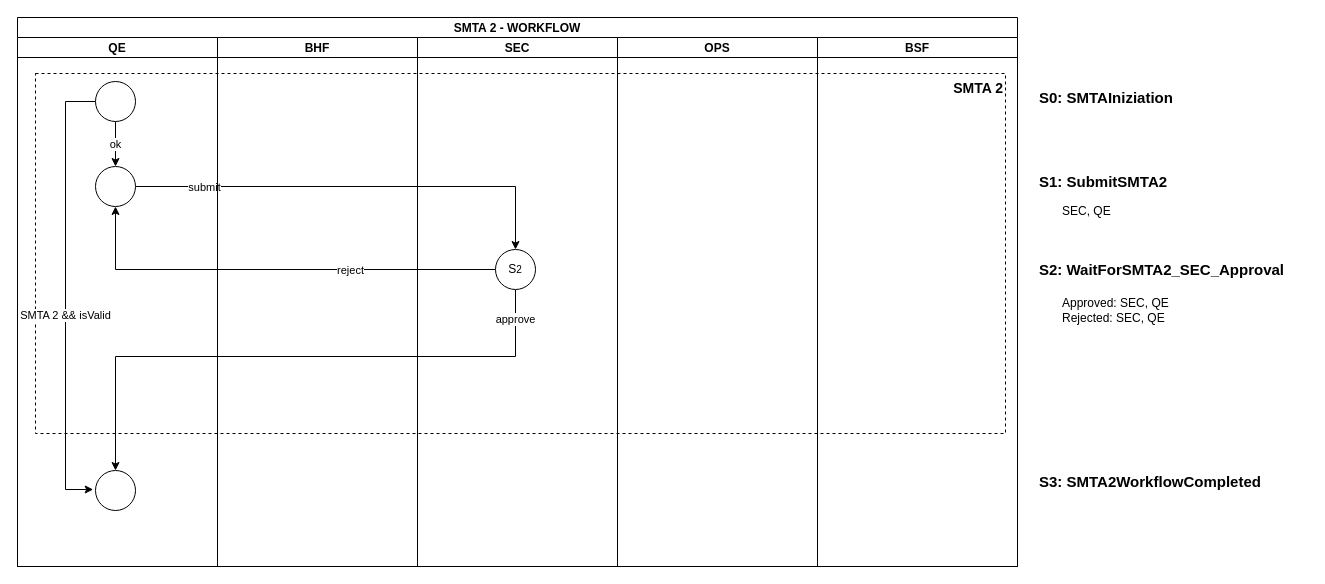
The diagram is 1325 pixels wide and 584 high, and some of its shapes have lost their labels. The shapes that lost their labels are listed below. From the top down, each one's centre as x and y in pixels, then its label:
At point 115,101: "S 0".
At point 115,186: "S 1".
At point 115,490: "S 3".
